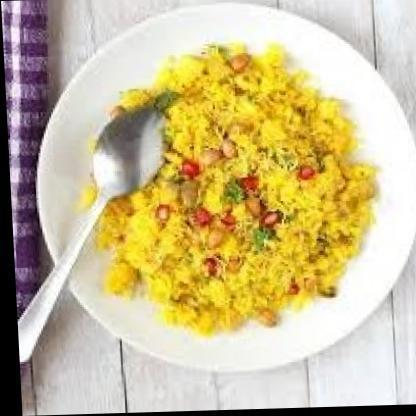poha: (71, 41, 381, 340)
